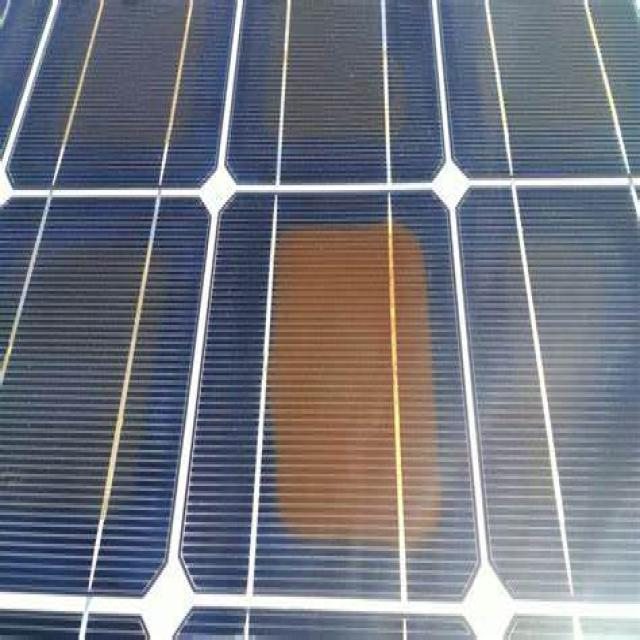electrical damage: (230, 206, 453, 577), (11, 237, 178, 541), (31, 6, 217, 162), (255, 5, 426, 167)
